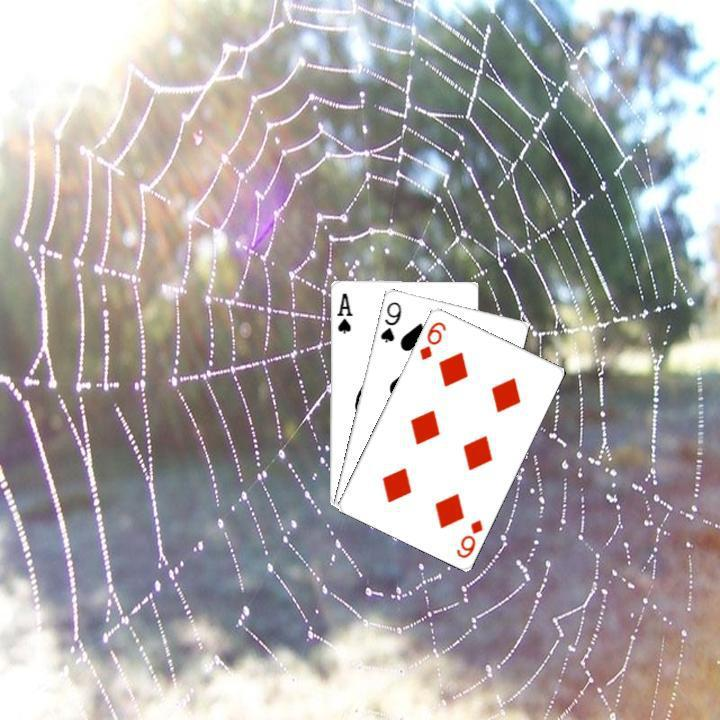6: (415, 317, 448, 362), (452, 515, 485, 560)
9: (376, 297, 403, 344)
A: (332, 288, 354, 335)
